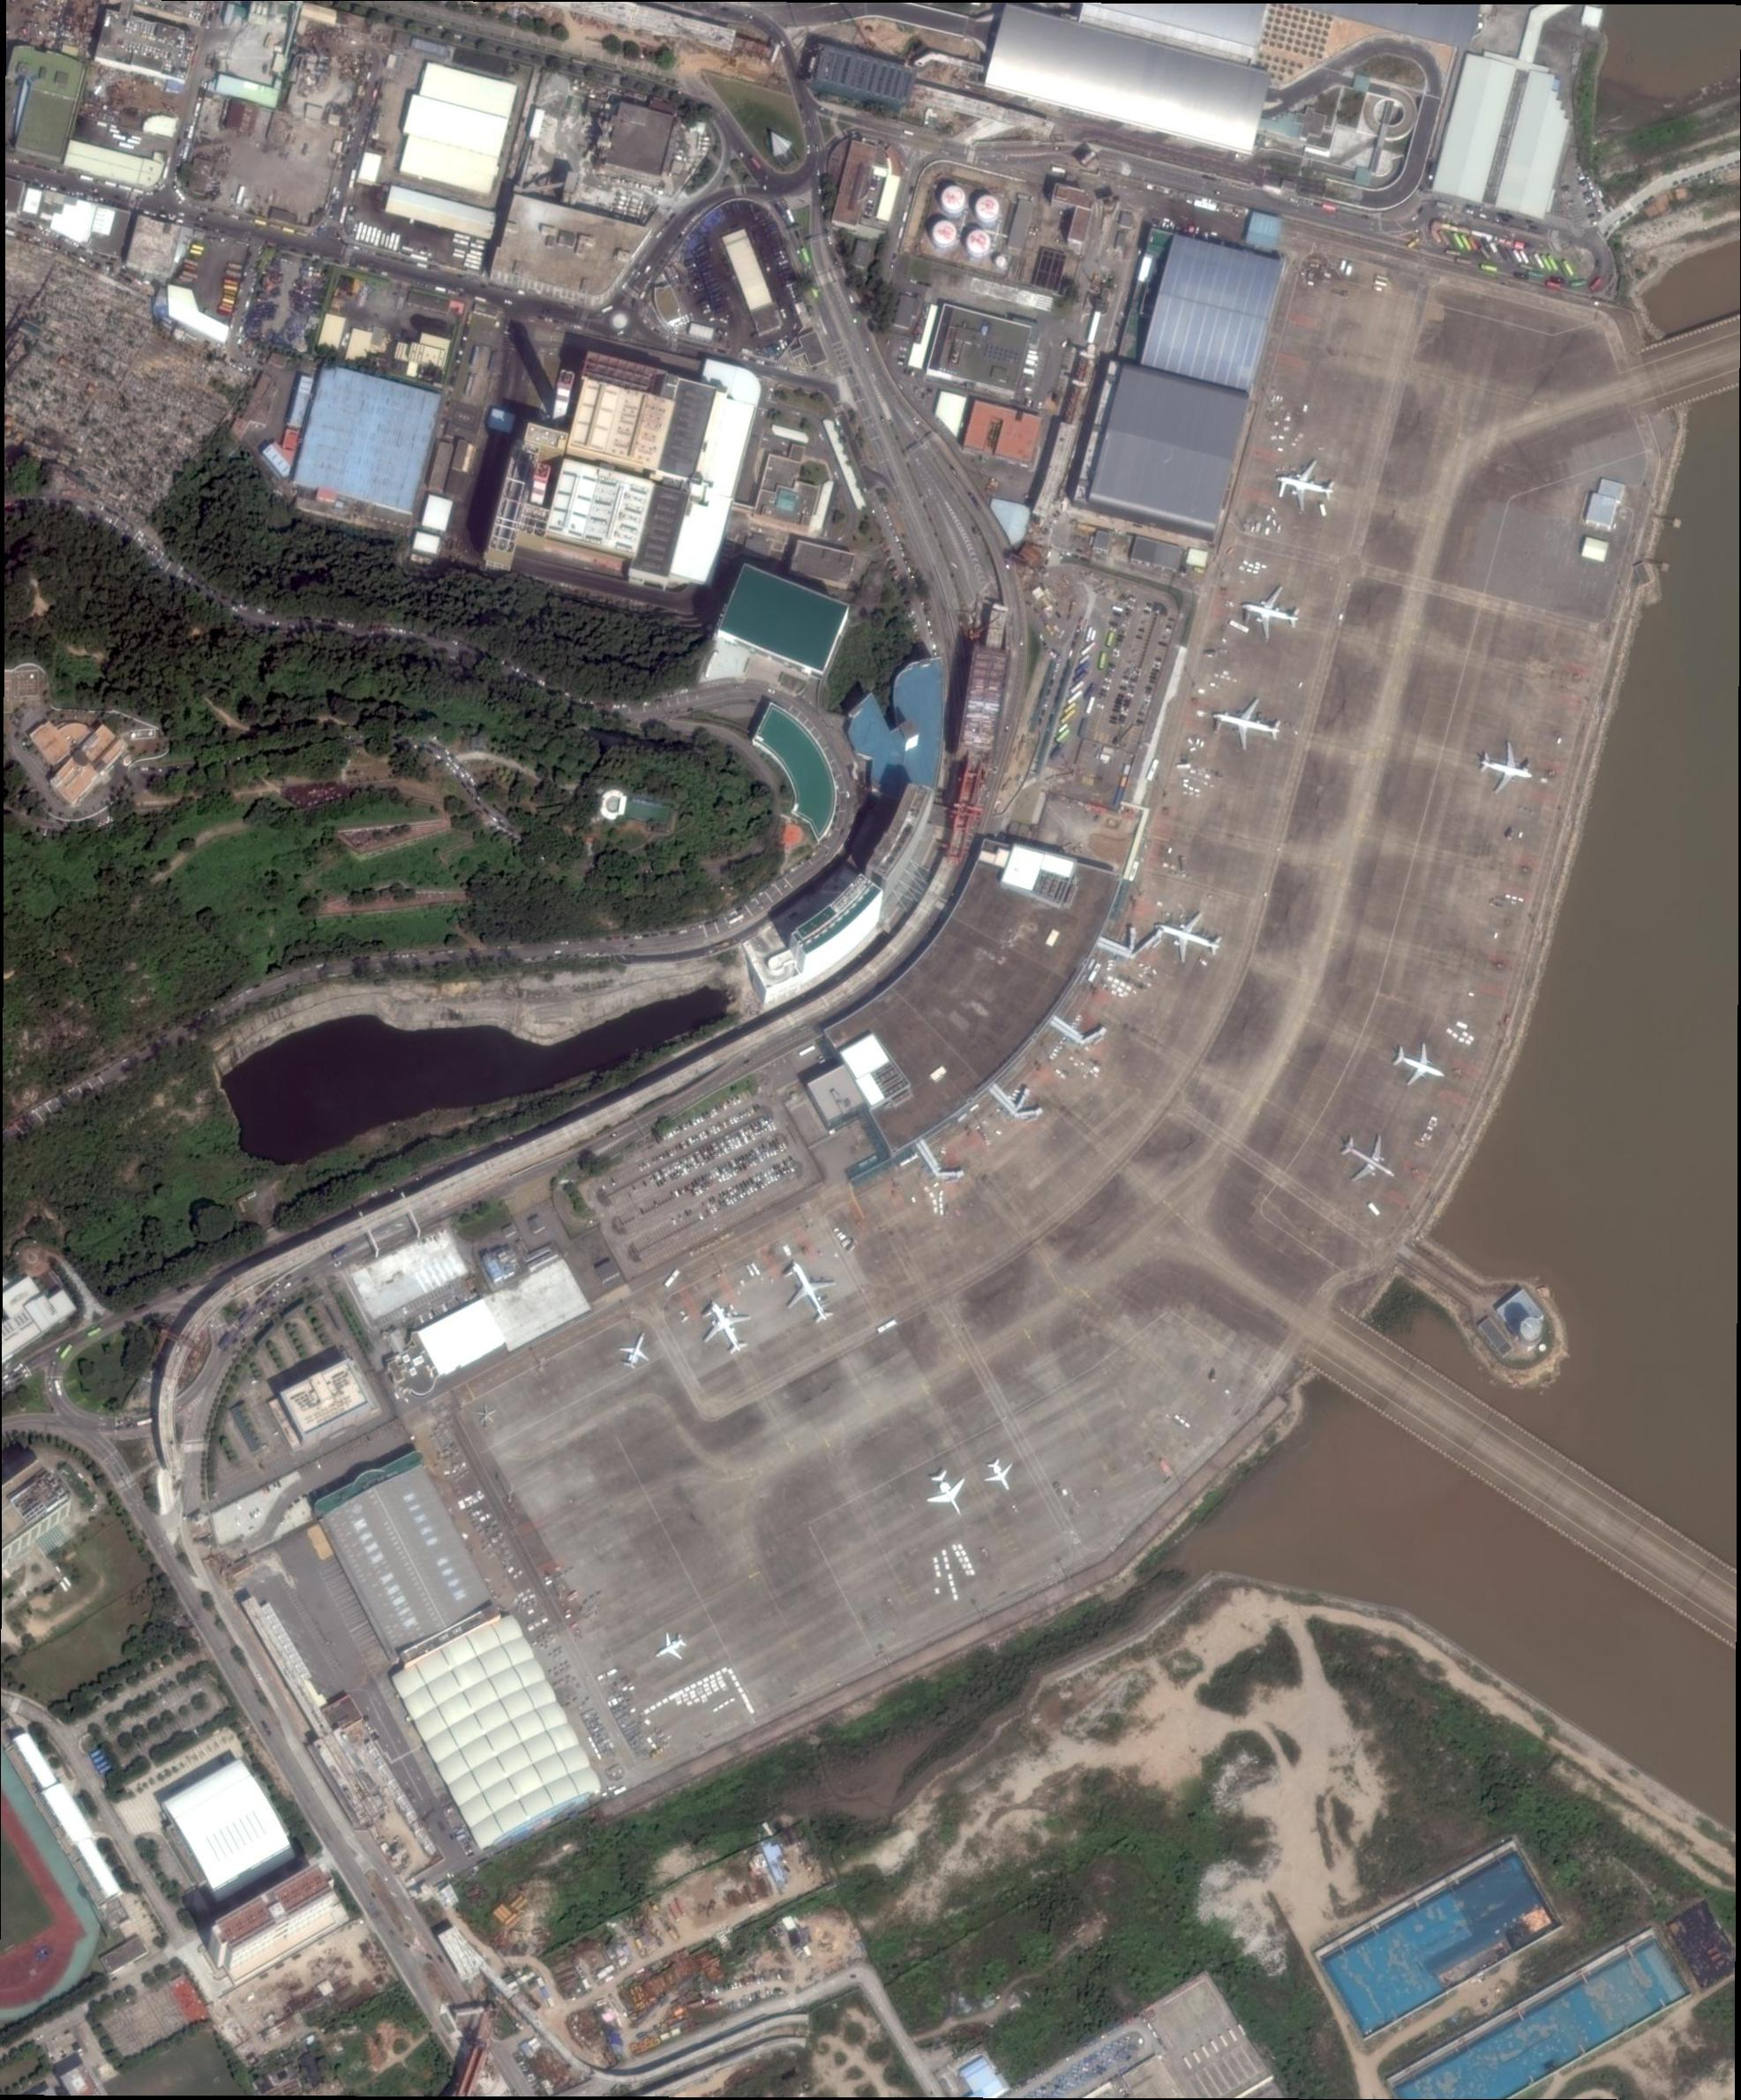plane: (1319, 1113, 1420, 1207), (1202, 682, 1298, 767), (768, 1247, 855, 1340), (1144, 902, 1239, 982), (1235, 574, 1315, 658), (1467, 727, 1547, 808), (1270, 447, 1348, 527), (1380, 1027, 1460, 1106), (687, 1291, 766, 1371), (912, 1456, 980, 1528), (972, 1446, 1031, 1505), (642, 1620, 700, 1678), (611, 1320, 661, 1376)
